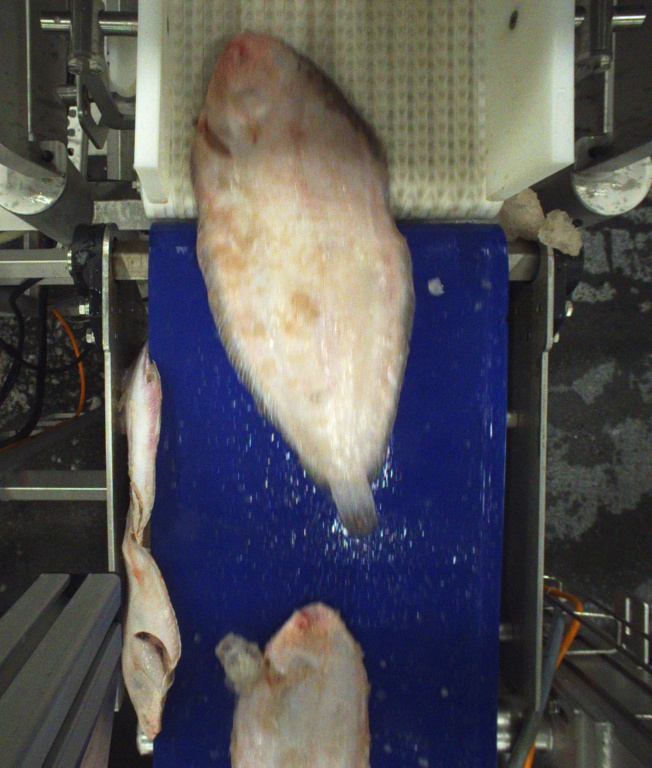SOL: (191, 33, 414, 539)
